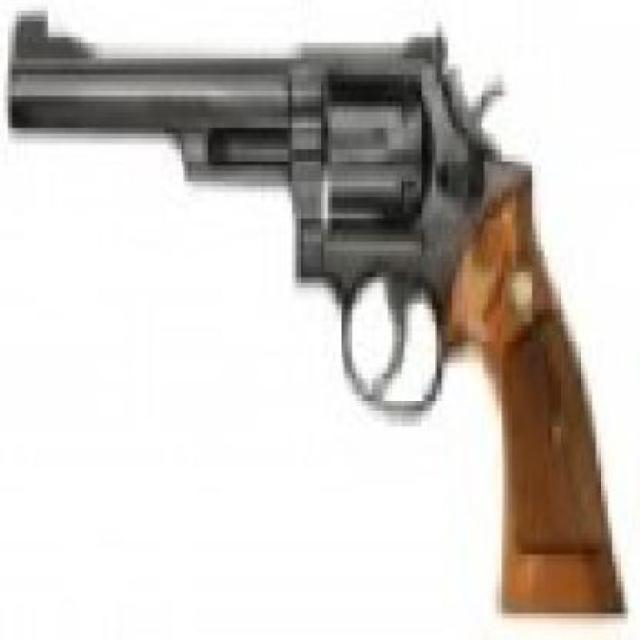gun: (8, 16, 628, 613)
